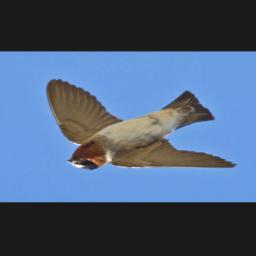Swallow: (43, 78, 239, 170)
